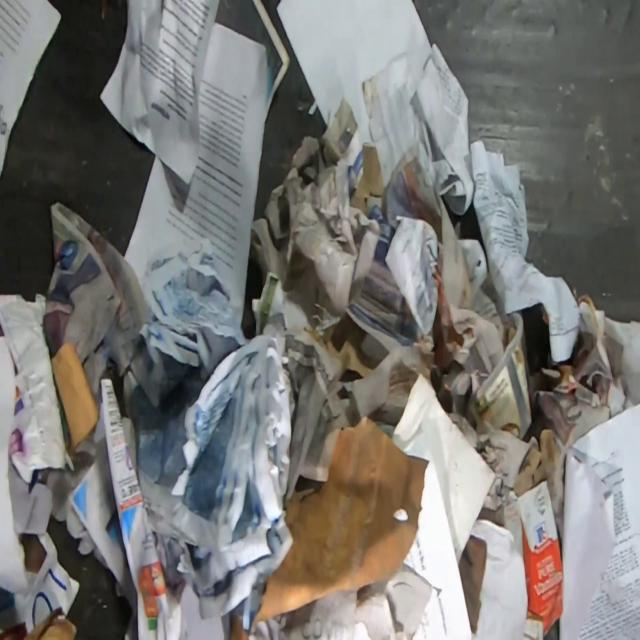cardboard: (501, 480, 564, 638), (51, 336, 100, 455), (350, 144, 385, 218), (20, 604, 79, 640)
rigid_plastic: (465, 311, 532, 440)
